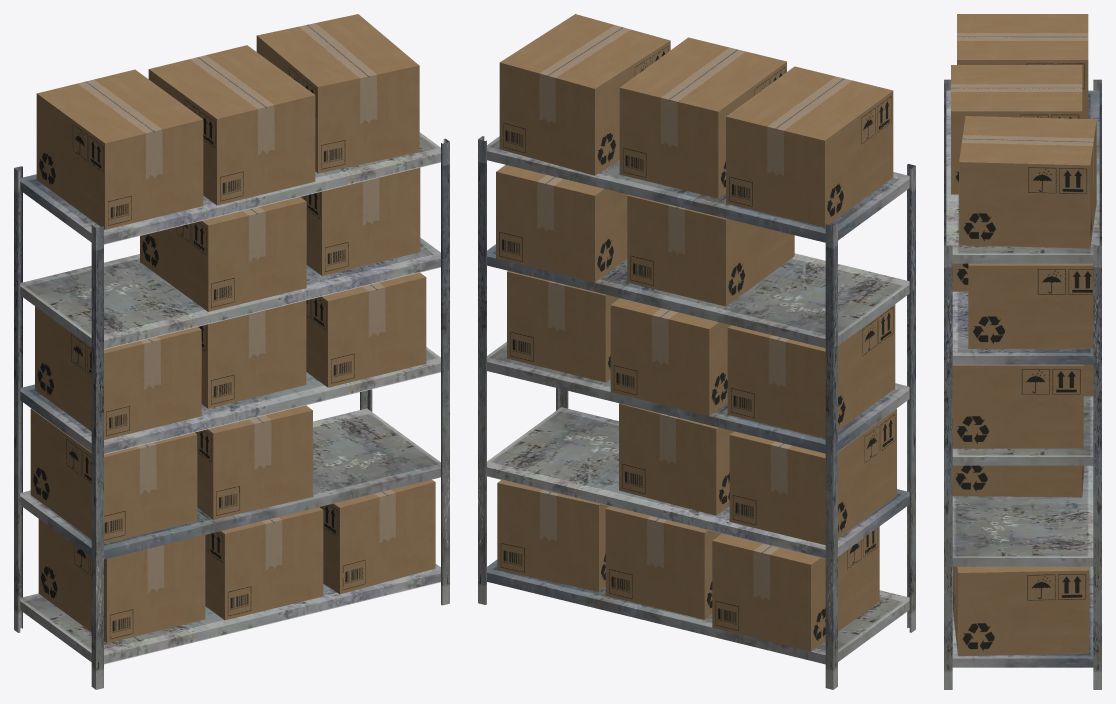
Rendered from shelf.glb.
3 views of the same model, side by side, from view 1: azimuth 30°, elevation 25°; view 2: azimuth 150°, elevation 25°; view 3: azimuth 270°, elevation 25° (orthographic). The views are drawn at different scales.
Parts seen in each view (by area): view 1: Shelve; view 2: Shelve; view 3: Shelve.
Boxes of the visible parts, box(x1,y1,x2,y2) form: Shelve: box(14, 14, 449, 689); Shelve: box(478, 14, 915, 689); Shelve: box(944, 14, 1101, 689).
Bounding box in the file's own units: 1.6 × 2.32 × 0.6431.
Materials: 1 (1 with a texture image).
